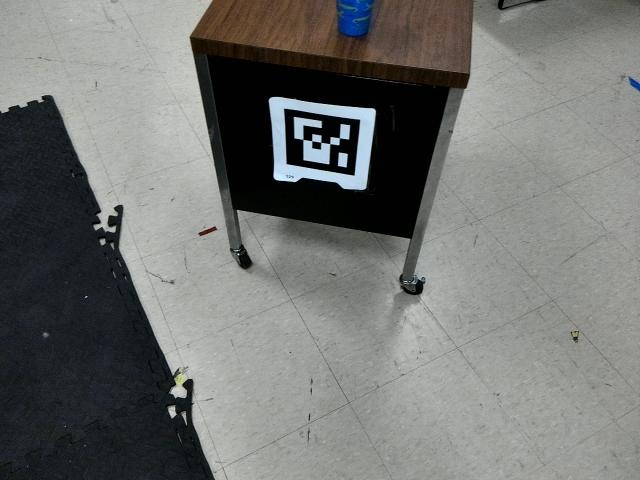water_cup: (329, 1, 379, 38)
